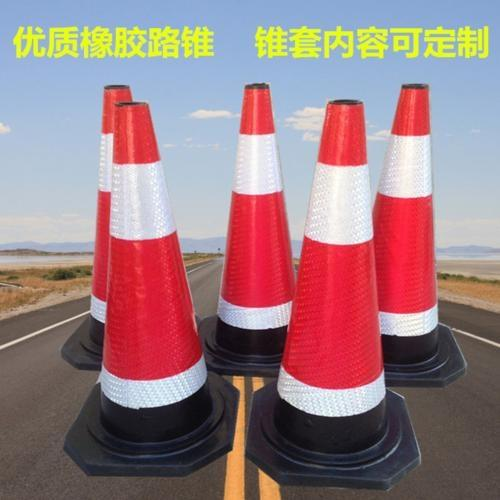cone_barrel: (267, 105, 397, 464), (87, 102, 219, 449), (207, 92, 301, 372), (369, 80, 447, 371), (74, 80, 131, 356)
